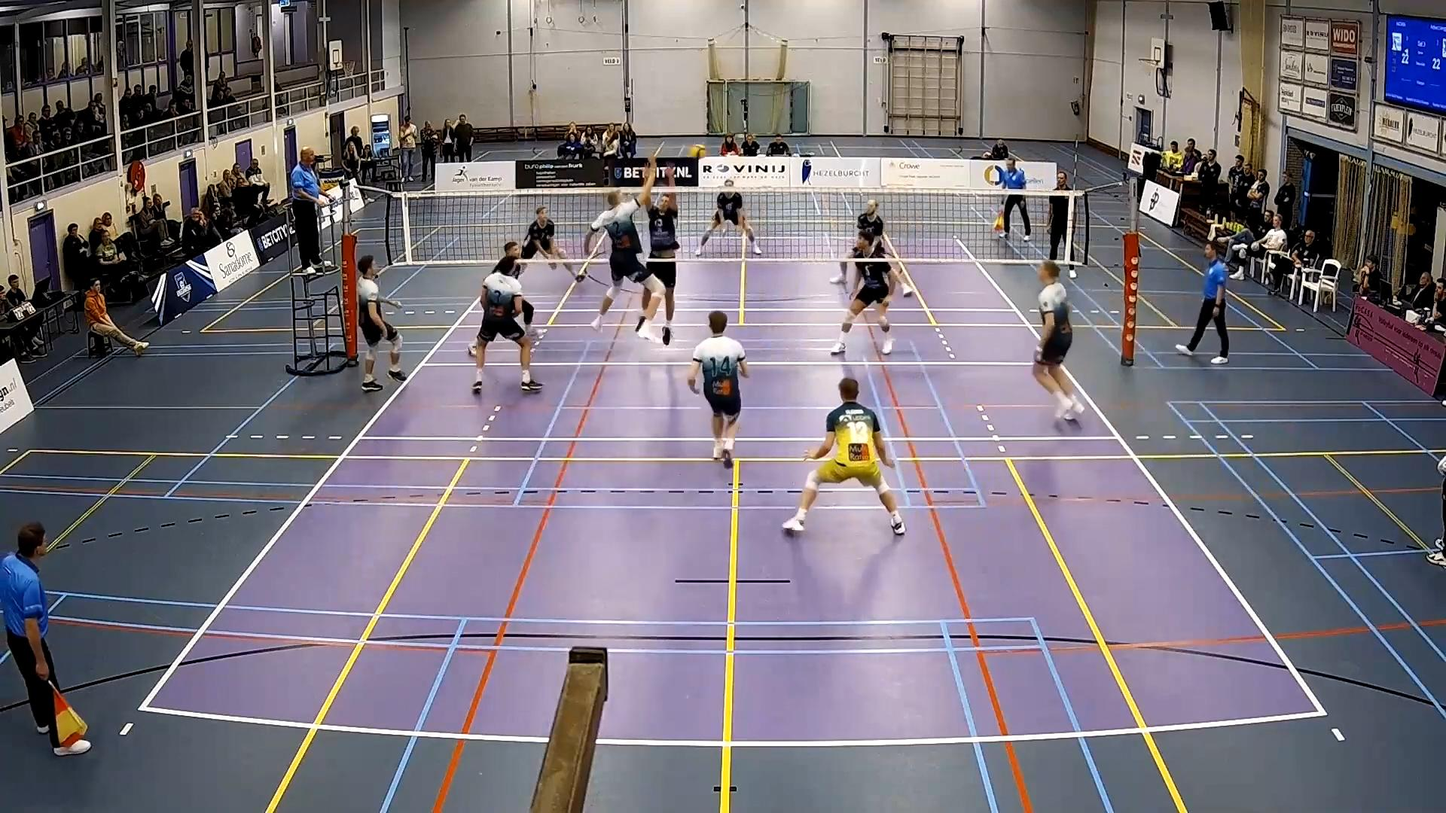Attack: (583, 172, 673, 302)
Block: (633, 161, 676, 348)
Player: (782, 377, 905, 534), (688, 311, 748, 467), (472, 270, 541, 392), (830, 233, 898, 355), (1033, 260, 1084, 420), (357, 255, 406, 391), (695, 181, 762, 255), (520, 206, 571, 272), (856, 199, 883, 247), (492, 241, 523, 279)
ball: (692, 146, 706, 155)
